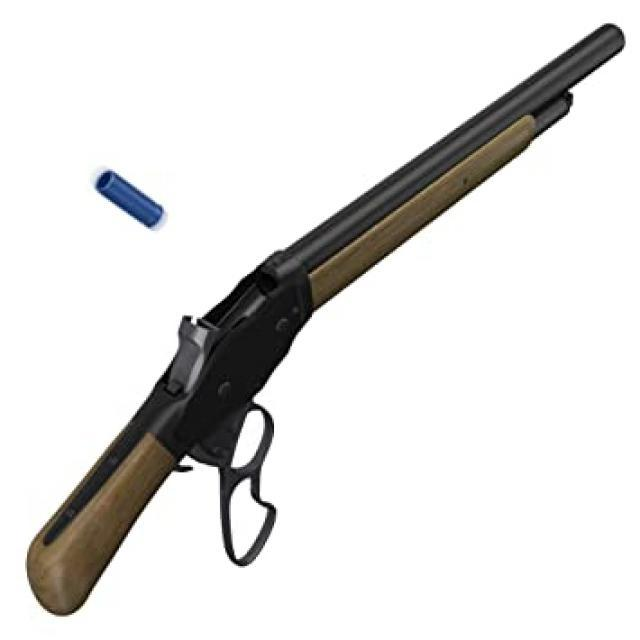shotgun: (26, 18, 627, 627)
